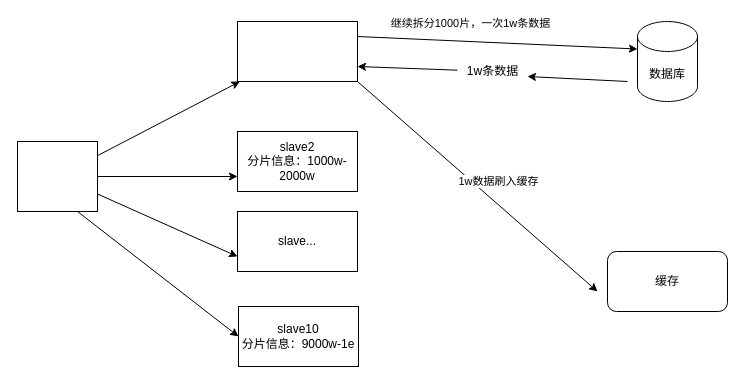
This 745x385 diagram has some shape labels left out. The centre of each missing label's shape, as x and y in pixels:
master: point (57, 176)
slave1 分片信息：1-1000w: point (297, 51)
